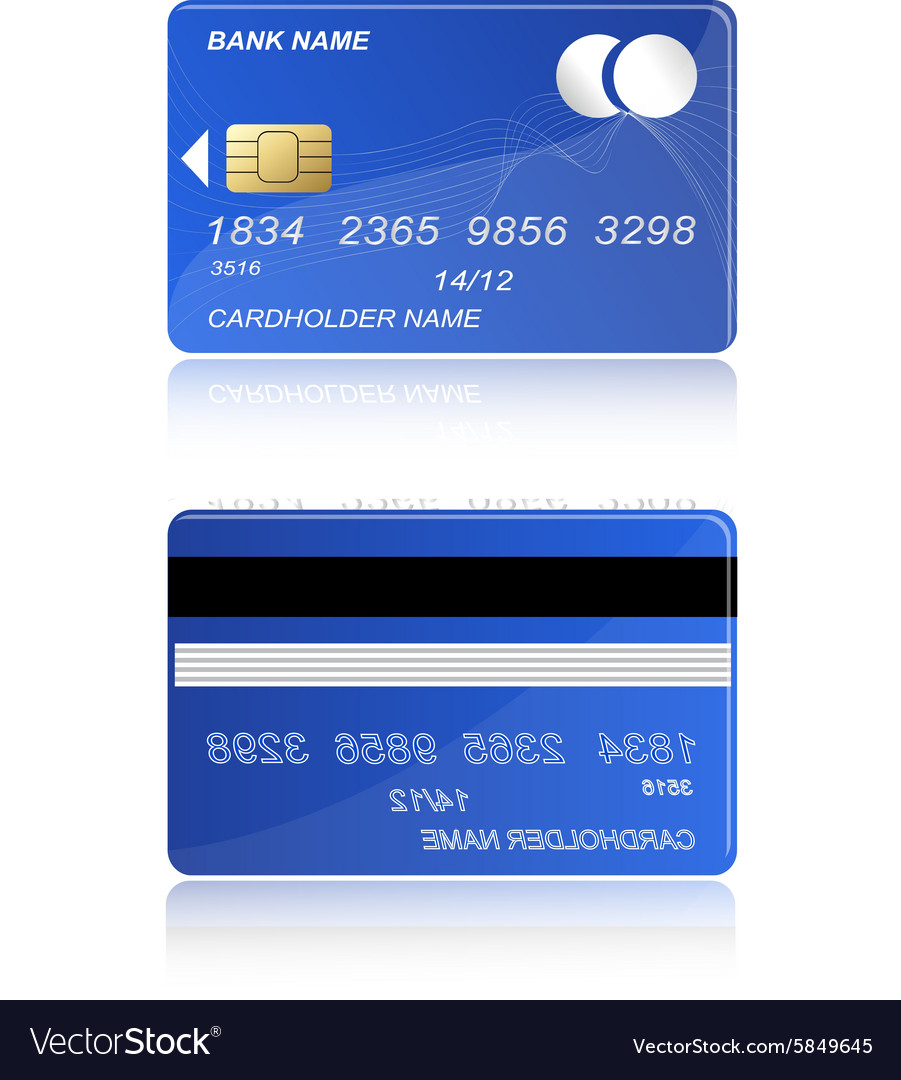card: (167, 508, 737, 876), (167, 1, 736, 354)
